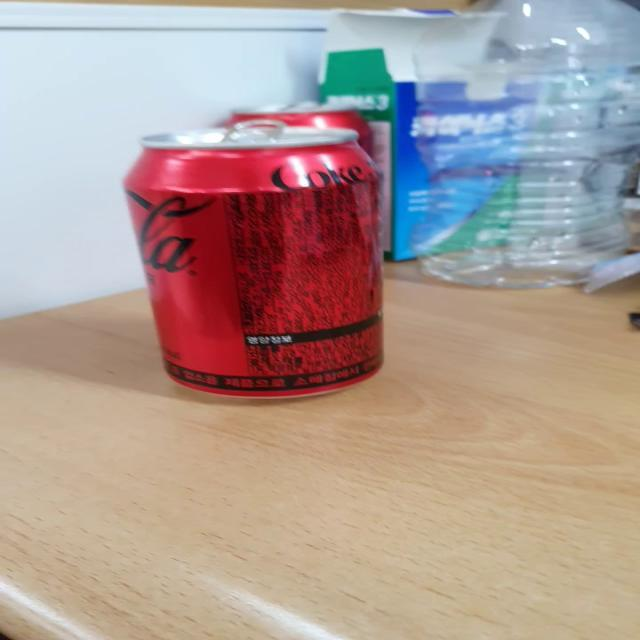coca-cola: (100, 112, 428, 416)
